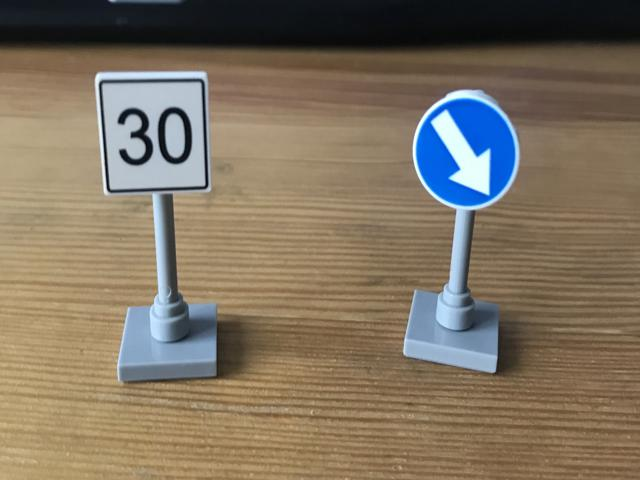rechts halten: (410, 94, 522, 208)
tempolimit 30: (96, 70, 211, 196)
